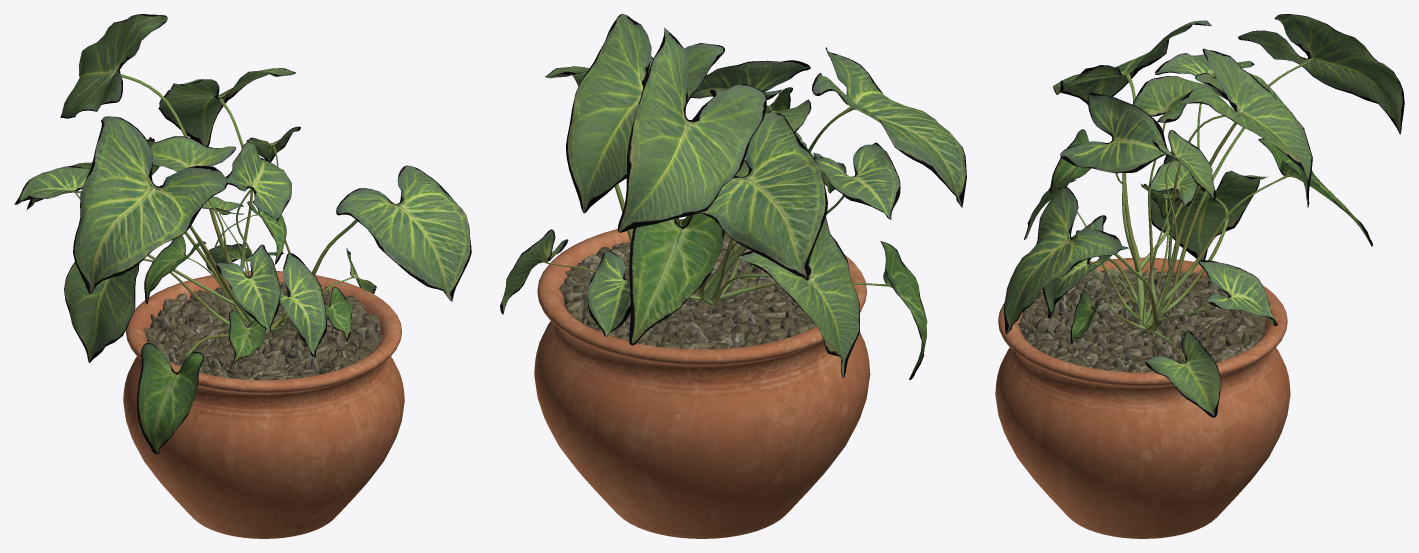
The model's file is potted-plant.glb.
3 renders of one model, left to right at view 1: azimuth 30°, elevation 25°; view 2: azimuth 150°, elevation 25°; view 3: azimuth 270°, elevation 25°, orthographic. The views are drawn at different scales.
Visible parts, largest first — view 1: potted_plant_02_leaves, potted_plant_02_pot; view 2: potted_plant_02_leaves, potted_plant_02_pot; view 3: potted_plant_02_pot, potted_plant_02_leaves.
Part boxes in pixels (x1,y1,x2,y2): potted_plant_02_leaves: [14, 14, 471, 454]; potted_plant_02_pot: [123, 271, 404, 538]; potted_plant_02_leaves: [500, 14, 966, 379]; potted_plant_02_pot: [534, 219, 870, 538]; potted_plant_02_pot: [995, 257, 1290, 538]; potted_plant_02_leaves: [1004, 14, 1404, 417].
Size of the model in its own units: 0.7012 by 0.8412 by 0.6574.
2 materials, 2 textured.
